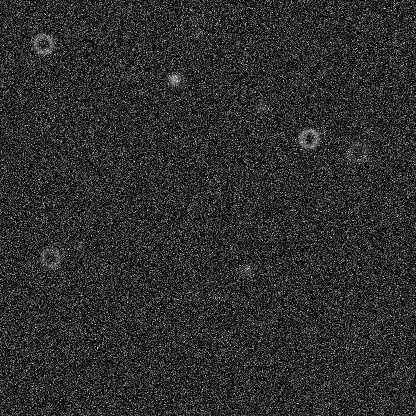Ring: (344, 140, 368, 164), (30, 32, 54, 56), (296, 126, 320, 150), (38, 245, 62, 269)
Spot: (253, 98, 269, 114), (191, 25, 207, 41), (166, 71, 182, 87), (239, 261, 255, 277)
